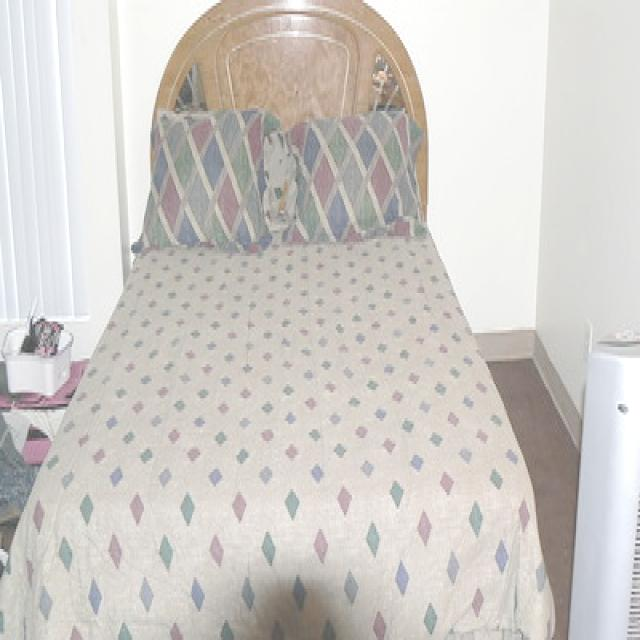bed: (5, 0, 542, 640)
